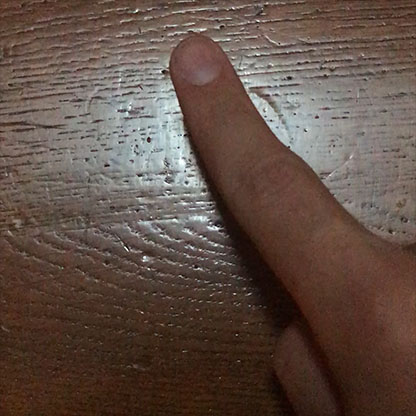fingertip: (165, 29, 234, 98)
